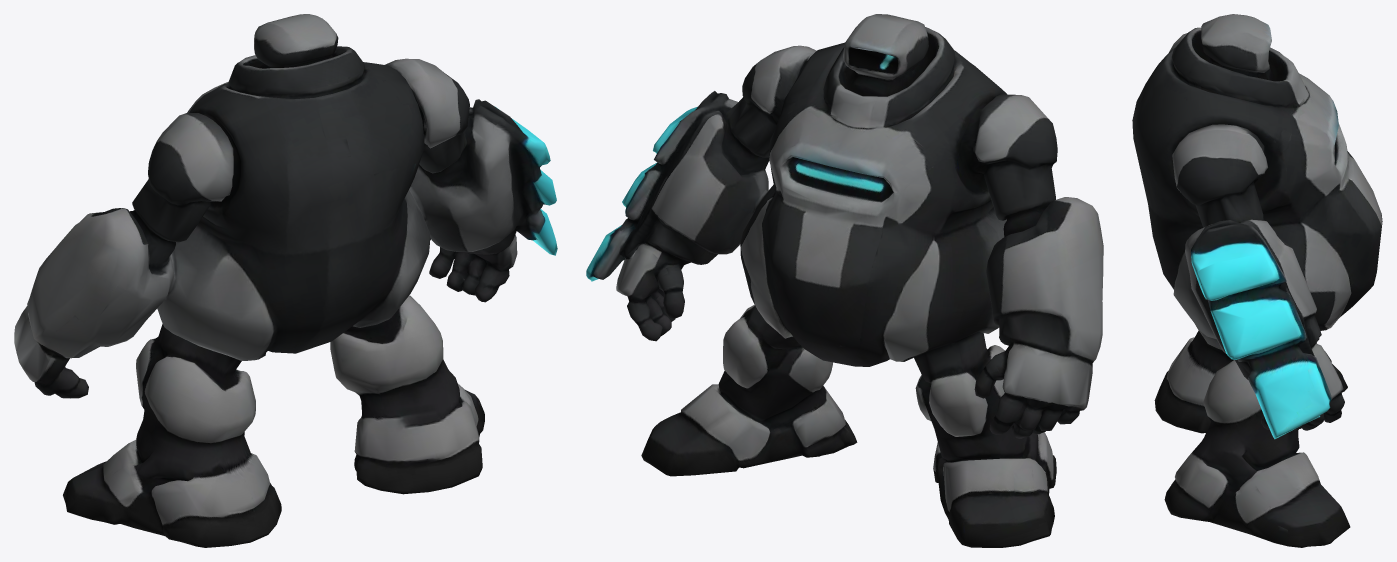
File: big-back-suit.glb
3 renders of one model, left to right at view 1: azimuth 30°, elevation 25°; view 2: azimuth 150°, elevation 25°; view 3: azimuth 270°, elevation 25°, orthographic. The views are drawn at different scales.
Visible parts, largest first — view 1: model; view 2: model; view 3: model.
Boxes of the visible parts, x1,y1,x2,y2 form: model: [14, 14, 557, 547]; model: [586, 14, 1103, 547]; model: [1132, 14, 1382, 547].
Bounding box in the file's own units: 1 × 0.8564 × 0.4511.
Materials: 1 (1 with a texture image).
